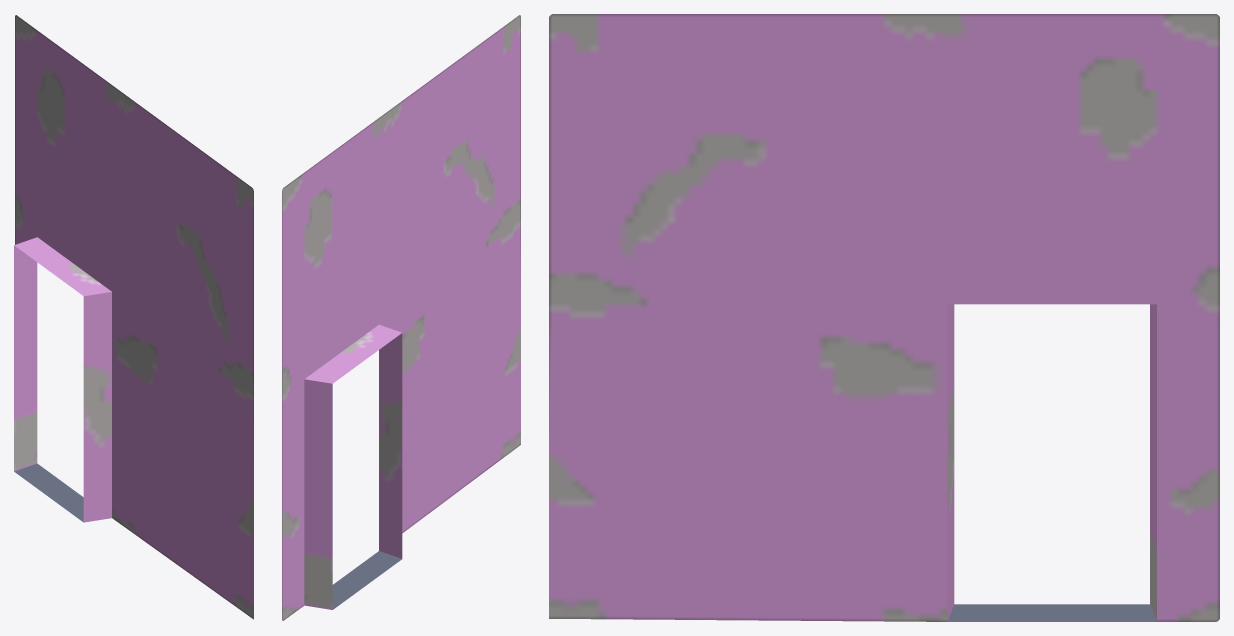
File: ParedPuertaRosa2.fbx
3 views of the same model, side by side, from view 1: azimuth 30°, elevation 25°; view 2: azimuth 150°, elevation 25°; view 3: azimuth 270°, elevation 25° (orthographic). The views are drawn at different scales.
Parts seen in each view (by area): view 1: Pared + puerta 2; view 2: Pared + puerta 2; view 3: Pared + puerta 2.
Boxes of the visible parts, x1,y1,x2,y2 form: Pared + puerta 2: (14, 15, 253, 619); Pared + puerta 2: (282, 15, 520, 620); Pared + puerta 2: (549, 14, 1219, 621).
Bounding box in the file's own units: 18.75 × 300 × 300.
Materials: 1 (1 with a texture image).
